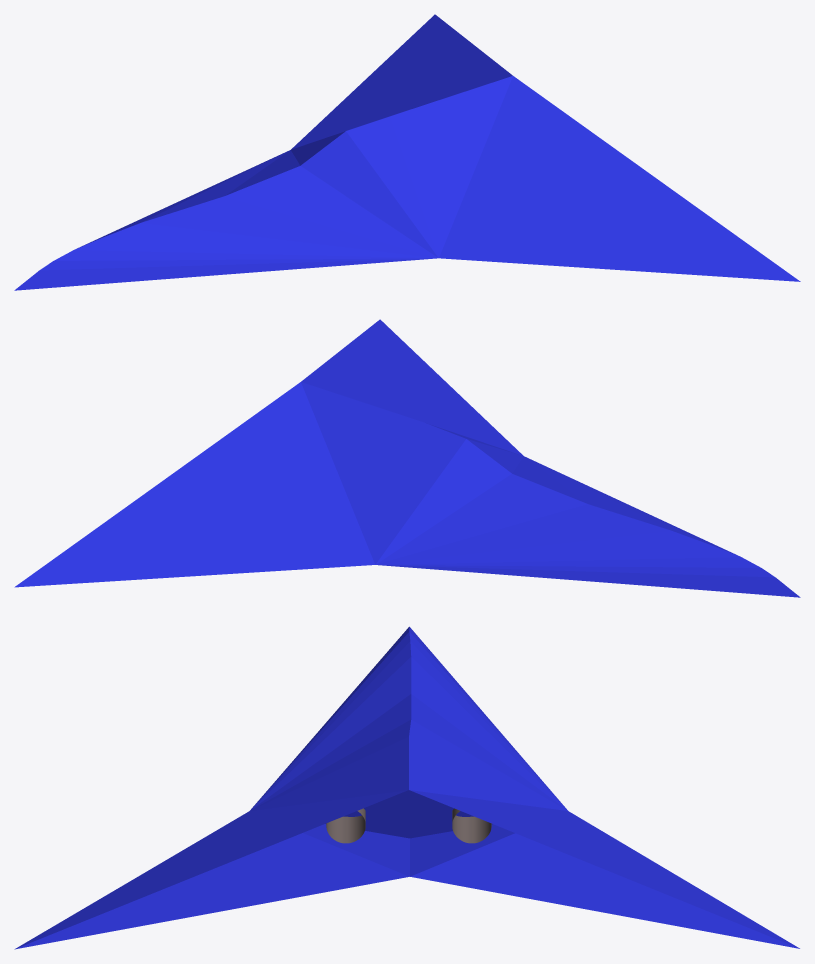
Rendered from possibleOtherModelForFlyer.fbx.
The picture shows the model from 3 angles, top to bottom: view 1: azimuth 30°, elevation 25°; view 2: azimuth 150°, elevation 25°; view 3: azimuth 270°, elevation 25°; orthographic projection. The views are drawn at different scales.
Visible parts, largest first — view 1: MainKart; view 2: MainKart; view 3: MainKart, Surface, Surface.001.
Part boxes in pixels (box(x1,y1,x2,y2)): MainKart: box(14, 14, 800, 290); MainKart: box(14, 319, 800, 597); MainKart: box(14, 626, 799, 949); Surface: box(326, 808, 365, 843); Surface.001: box(452, 808, 491, 843).
Size of the model in its own units: 477 by 89.48 by 500.
